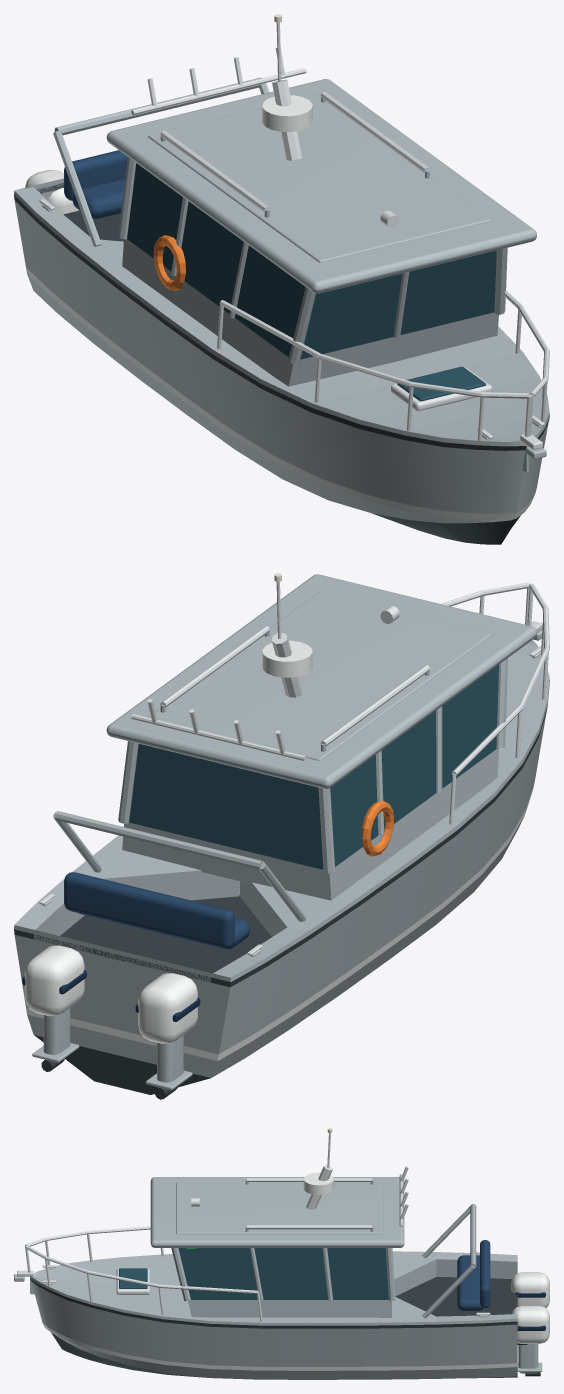
The model's file is alloy_pilothouse.glb.
3 views of the same model, one above another, from view 1: azimuth 30°, elevation 25°; view 2: azimuth 150°, elevation 25°; view 3: azimuth 270°, elevation 25° (orthographic). The views are drawn at different scales.
Visible parts, largest first — view 1: alloy_pilothouse; view 2: alloy_pilothouse; view 3: alloy_pilothouse.
Boxes of the visible parts, <box> form: alloy_pilothouse: <box>14,14,549,544</box>; alloy_pilothouse: <box>14,573,549,1099</box>; alloy_pilothouse: <box>14,1128,549,1379</box>.
Bounding box in the file's own units: 2.92 × 4.52 × 9.14.
